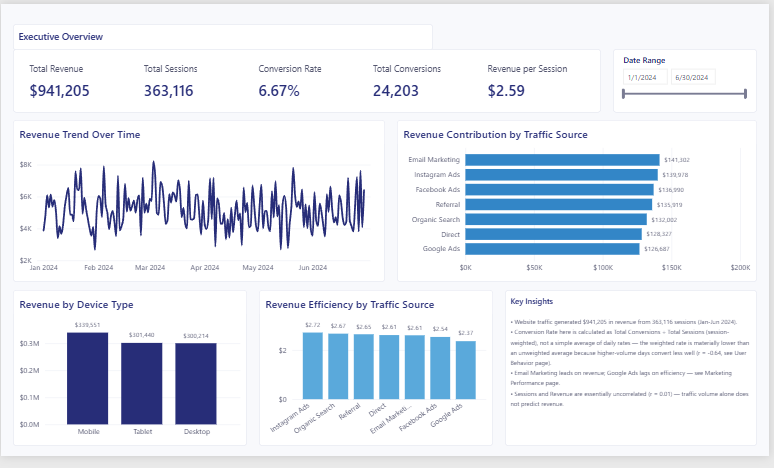

This screenshot's page, from the dashboard's own definition file:
{"tool":"powerbi","page":{"name":"Executive Overview","canvas":[1280,720],"ordinal":0},"visuals":[{"type":"cardVisual","title":"Total Revenue","fields":{"Data":["Sum(cleaned_website_traffic.Revenue)"]},"box":[10.2,86.3,336.6,139],"z":0},{"type":"cardVisual","title":"Total Sessions","fields":{"Data":["Sum(cleaned_website_traffic.Sessions)"]},"box":[365.9,86.3,281,139],"z":1000},{"type":"cardVisual","title":"Average Conversion Rate","fields":{"Data":["Avg(cleaned_website_traffic.Conversion_Rate)"]},"box":[1001,86.3,279.5,139],"z":2000},{"type":"cardVisual","title":"Total Conversions","fields":{"Data":["Sum(cleaned_website_traffic.Conversions)"]},"box":[682,86.3,279.5,139],"z":3000},{"type":"textbox","box":[10,290,280,280],"z":4000},{"type":"clusteredBarChart","title":"Revenue by Traffic Source","fields":{"Category":["cleaned_website_traffic.Traffic_Source"],"Y":["Sum(cleaned_website_traffic.Revenue)"]},"box":[4.4,225.4,642.4,270.7],"z":5000},{"type":"shape","title":"Website Traffic & Revenue Analysis","box":[0,0,1280.5,70.2],"z":6000},{"type":"donutChart","title":"Revenue by Device","fields":{"Category":["cleaned_website_traffic.Device_Type"],"Y":["Sum(cleaned_website_traffic.Revenue)"]},"box":[682,225.4,572.2,270.7],"z":7000},{"type":"lineChart","title":"Revenue Trend Over Time","fields":{"Y":["Sum(cleaned_website_traffic.Revenue)"],"Category":["cleaned_website_traffic.Date"]},"box":[10.2,521,1243.9,185.9],"z":8000},{"type":"image","box":[4.4,5.9,65.9,57.1],"z":9000}]}

Visuals, with their boxes on the page's 1280x720 design canvas (x1, y1, x2, y2). These are canvas units, not pixel positions in the 774x468 screenshot, which may show the page scaled, cropped or inside an application window:
"Total Revenue" cardVisual: rect(10, 86, 347, 225)
"Total Sessions" cardVisual: rect(366, 86, 647, 225)
"Average Conversion Rate" cardVisual: rect(1001, 86, 1280, 225)
"Total Conversions" cardVisual: rect(682, 86, 962, 225)
textbox: rect(10, 290, 290, 570)
"Revenue by Traffic Source" clusteredBarChart: rect(4, 225, 647, 496)
"Website Traffic & Revenue Analysis" shape: rect(0, 0, 1280, 70)
"Revenue by Device" donutChart: rect(682, 225, 1254, 496)
"Revenue Trend Over Time" lineChart: rect(10, 521, 1254, 707)
image: rect(4, 6, 70, 63)
